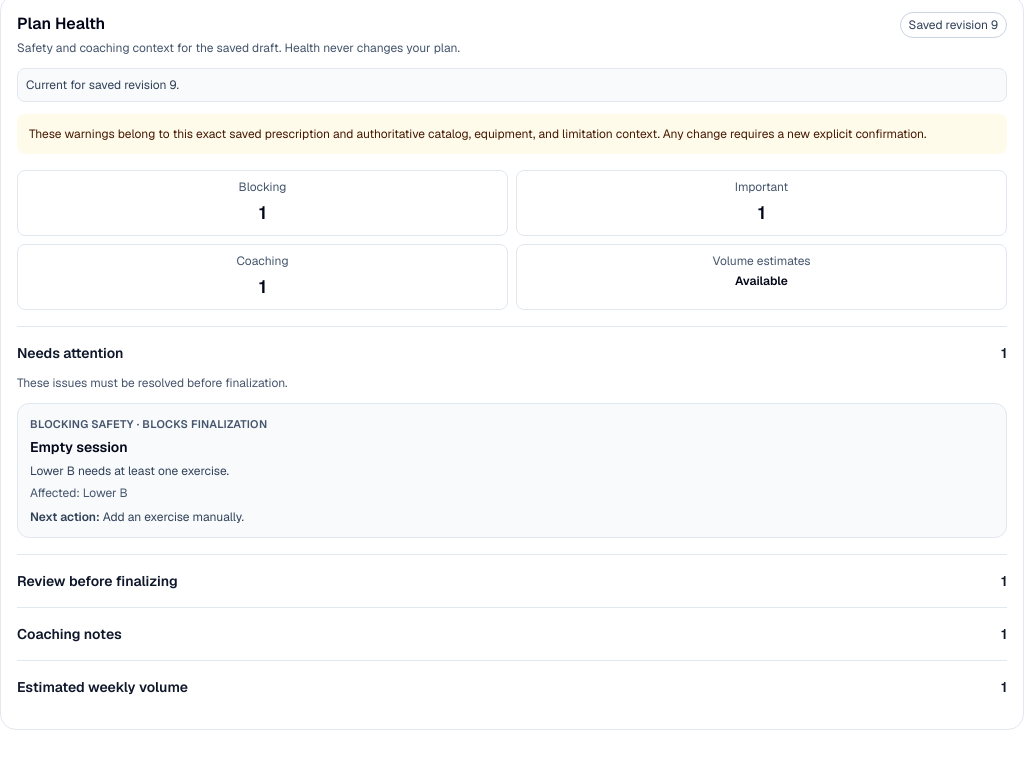
Scenario: PlanHealthPanel › renders semantic tier counts, issue details, and neutral approximate volume
Expected: the heading "Plan Health" is shown, [17,13,105,34]
Expected: the text "Current for saved revision 9." is shown, [17,68,1007,102]
Click the text "Review before finalizing".
click(97, 580)  # box [17,570,178,590]
(page scrolled)
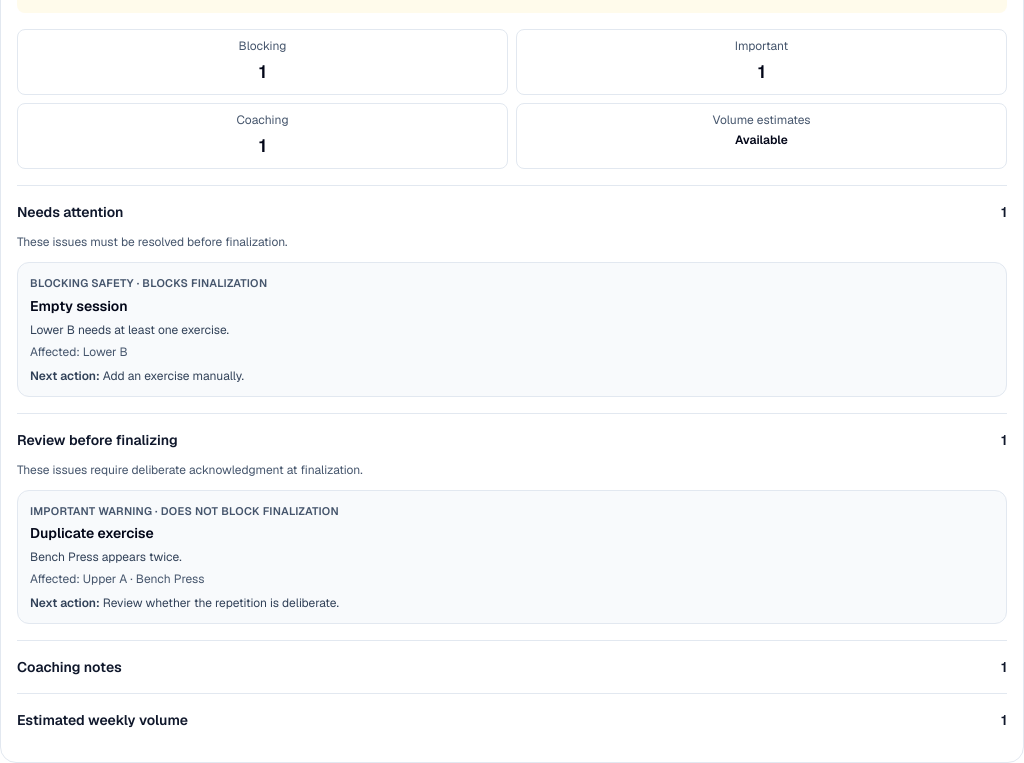
Expected: the text "Important warning · Does not block finalization" is shown, [30,504,339,518]
Click the text "Coaching notes".
click(69, 667)  # box [17,657,122,677]
(page scrolled)
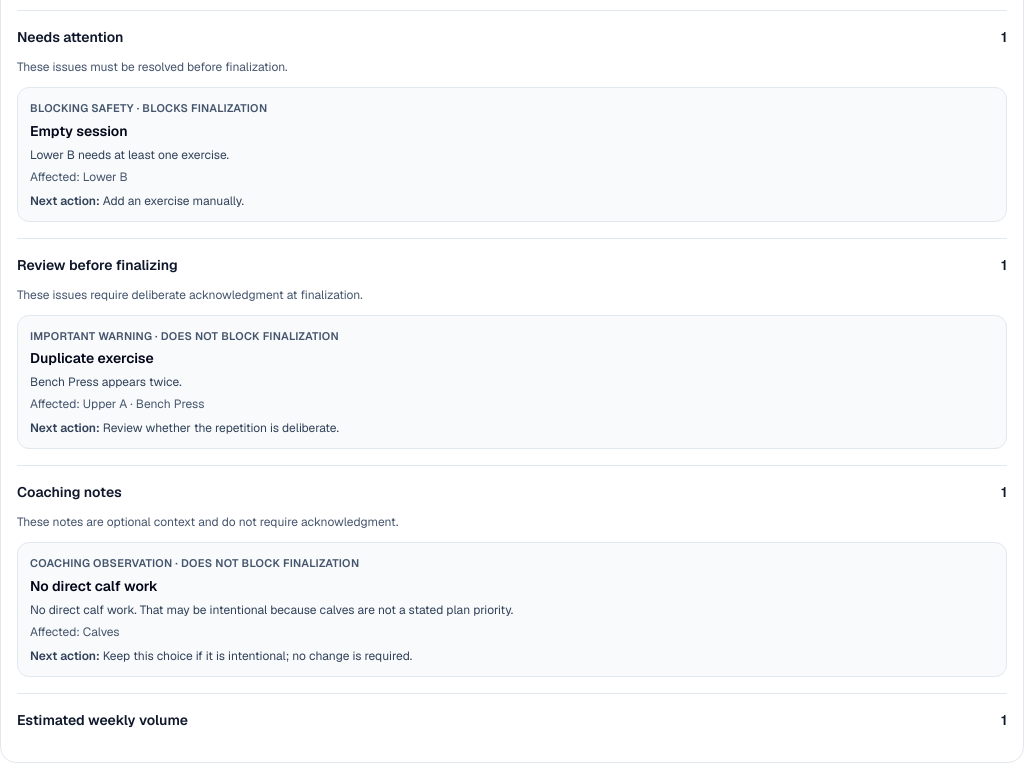
Expected: the text "Coaching observation · Does not block finalization" is shown, [30,556,359,570]
Click the text "Estimated weekly volume".
click(102, 720)  # box [17,710,188,730]
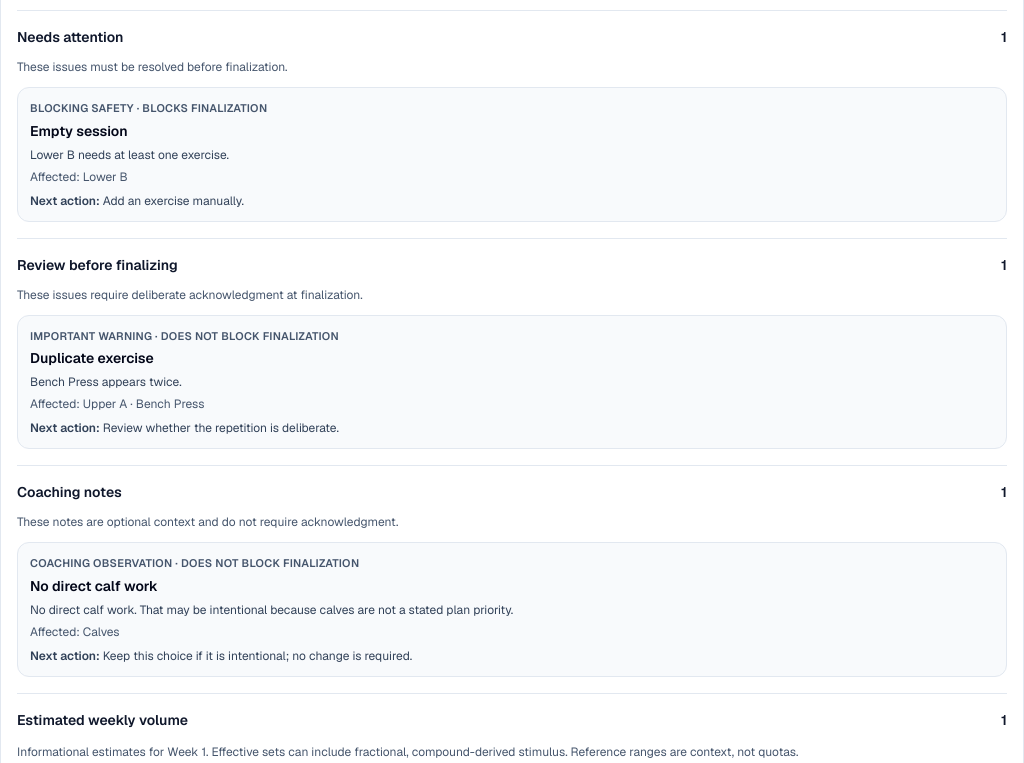
Expected: the text "Reference ranges are context, not quotas" is shown, [206,744,798,760]
